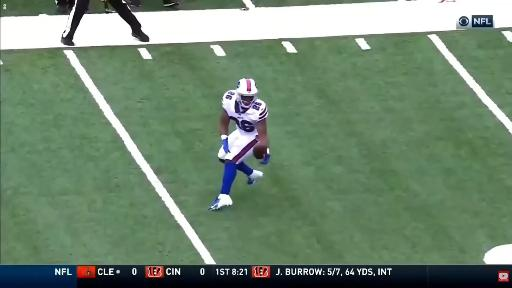Helmet: (236, 78, 258, 109)
Jersey: (222, 91, 268, 135)
Player: (209, 79, 268, 210)
